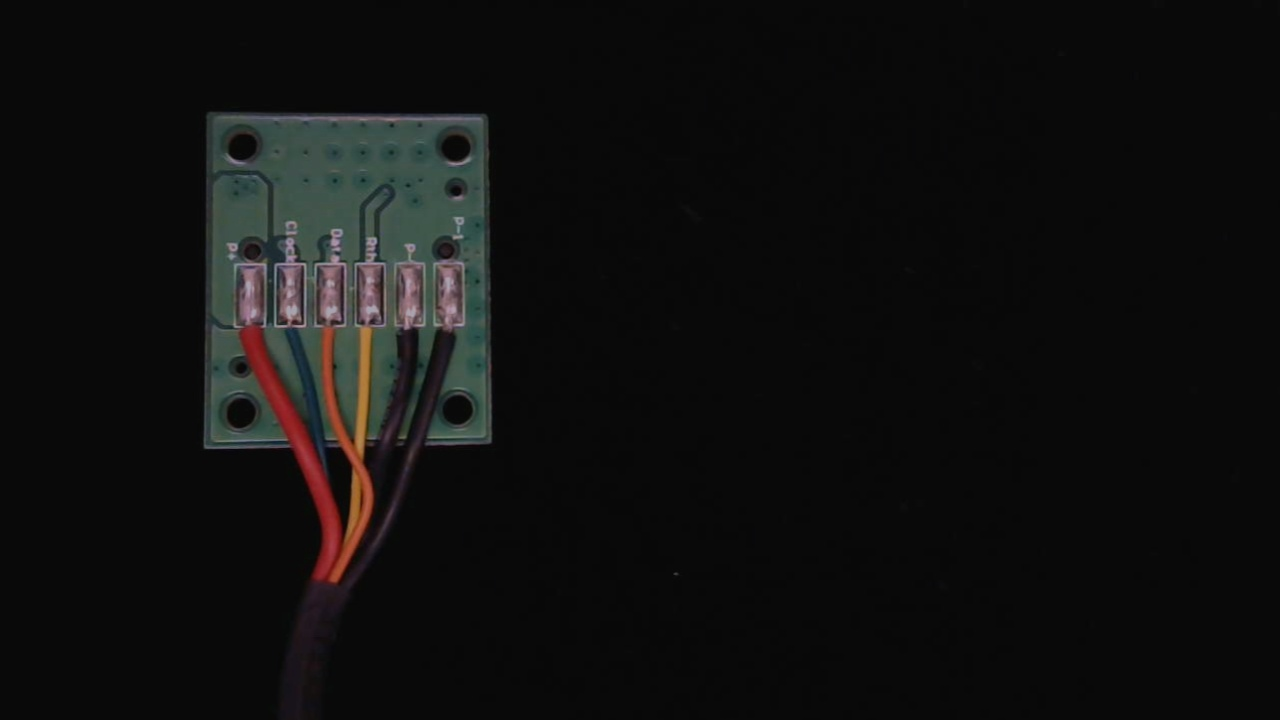Black: (393, 301, 427, 374)
Black1: (432, 302, 466, 369)
Green: (275, 301, 309, 371)
Orange: (314, 302, 347, 374)
Red: (231, 301, 267, 371)
Yellow: (352, 301, 387, 375)
